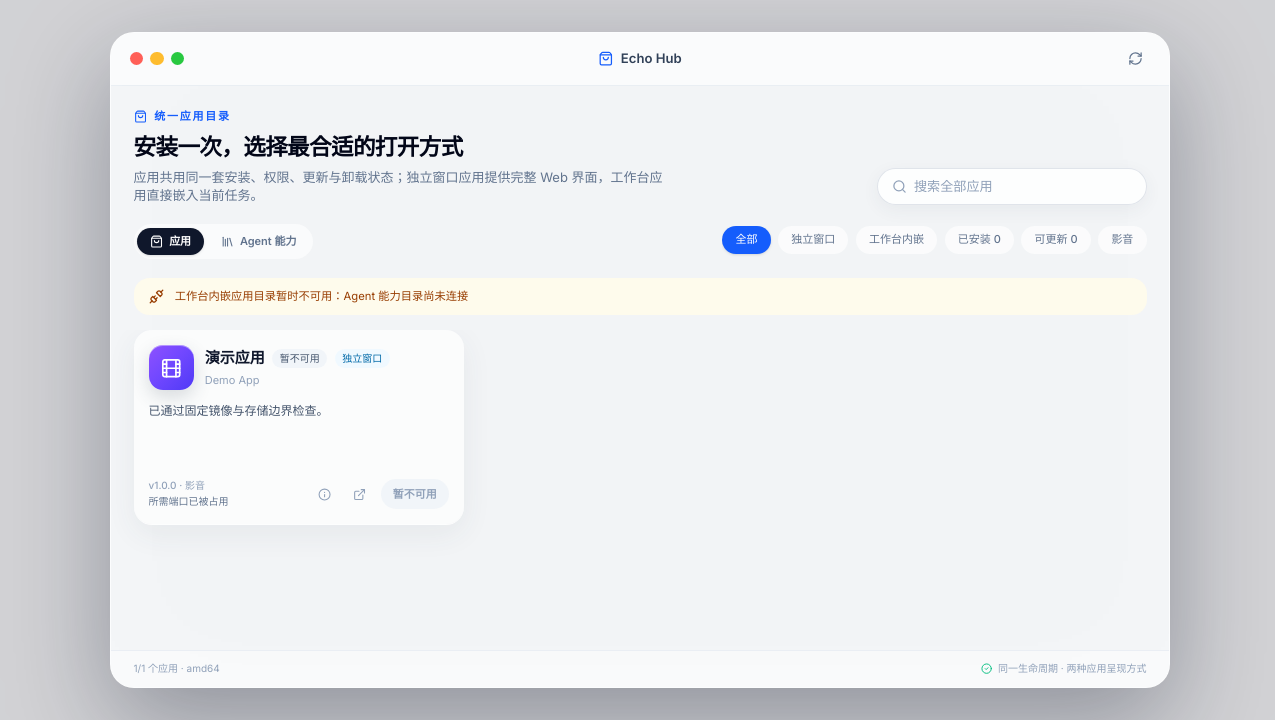
Test: Echo Hub panel › names the exact occupied port instead of showing a generic install failure
This screenshot has width=1280, height=720.
Check: the text "所需端口已被占用" is shown, box [148,494,228,509]
Click the button named "查看 演示应用 详情".
click(324, 494)  # box [309,479,339,509]
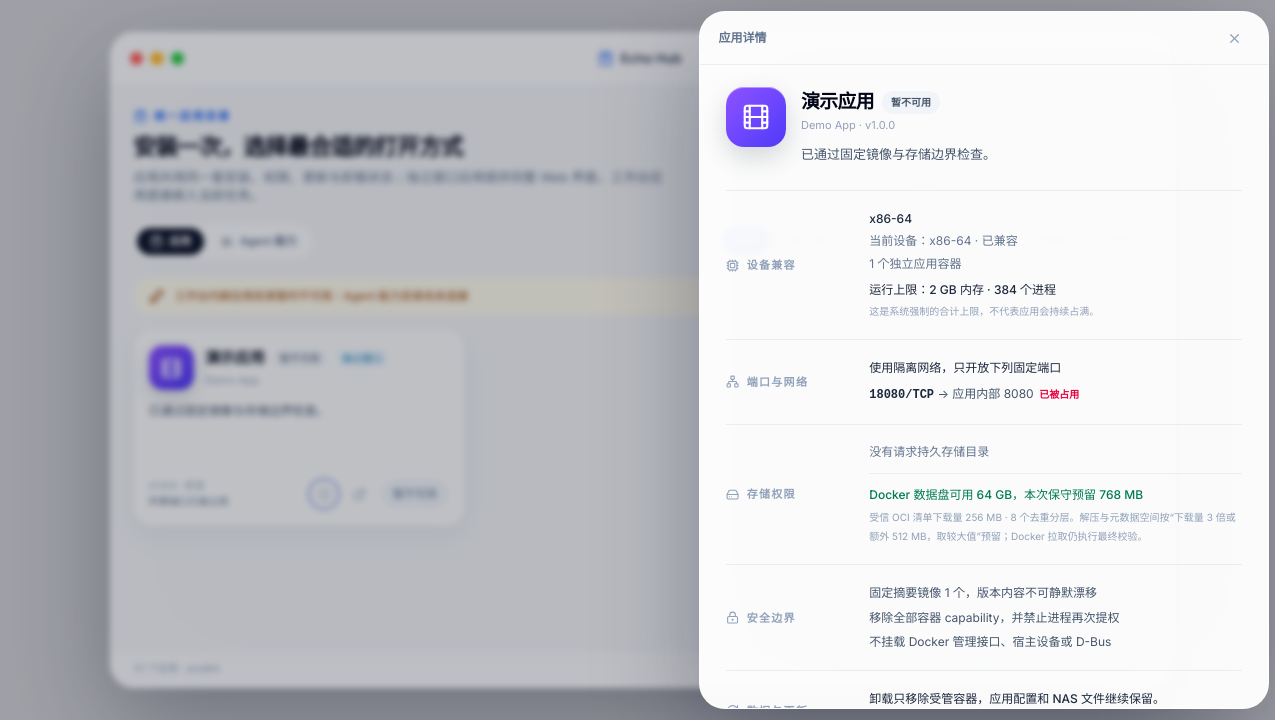
Check: the dialog named "演示应用 应用详情" shows "18080/TCP → 应用内部 8080已被占用", box [699,11,1269,709]
